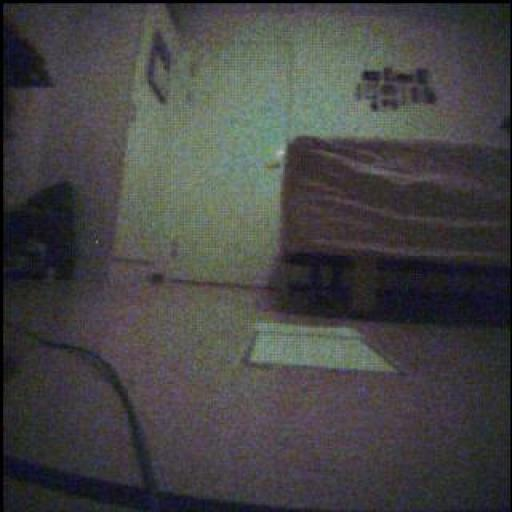pad: (249, 323, 399, 374)
